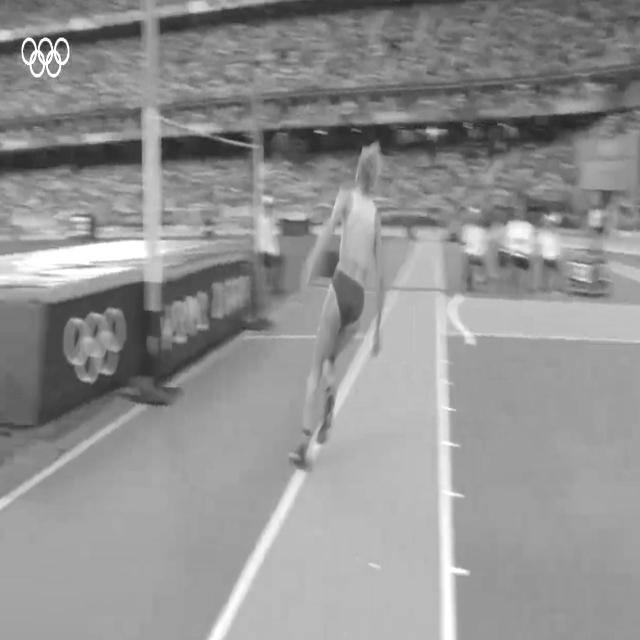run: (284, 146, 382, 466)
